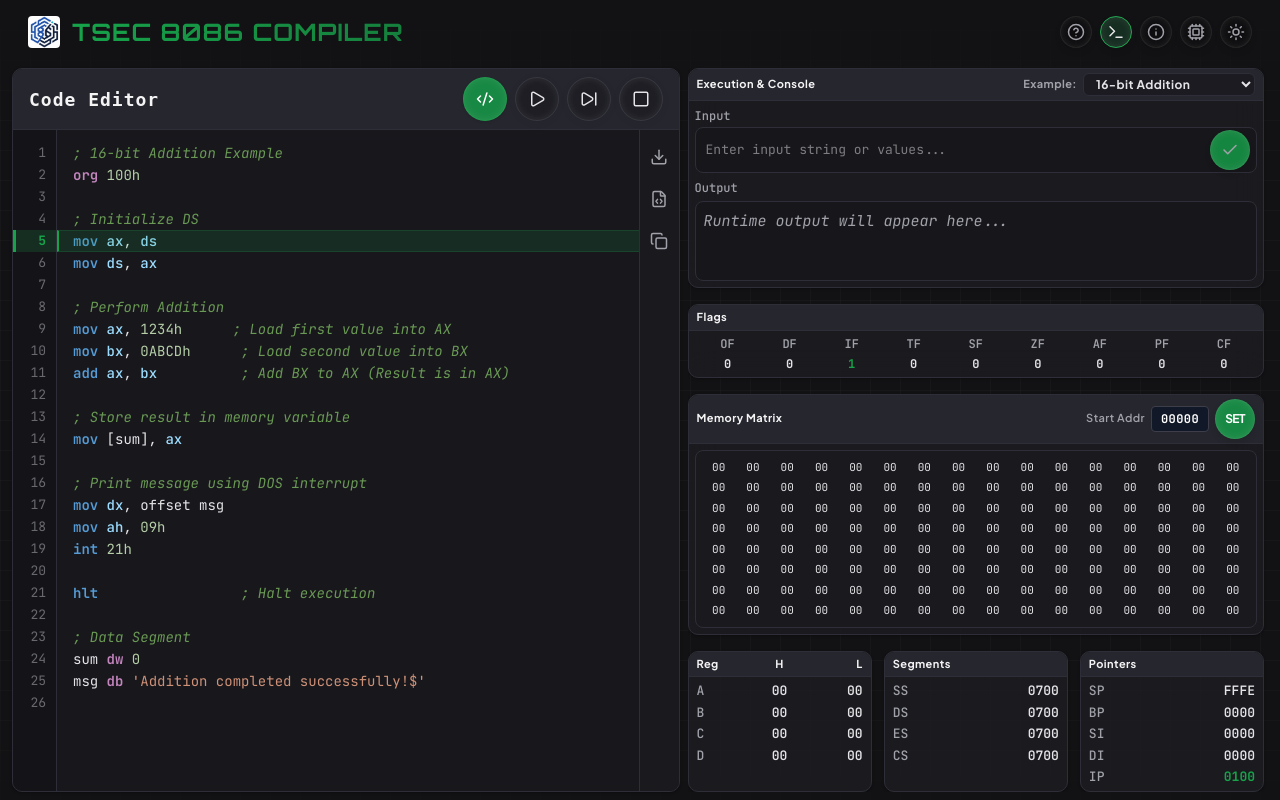
it: Milestone 5: Inter-Module Contract Testing › 5.1 & 5.2 Error Propagation & UI Sync › shows compilation errors on invalid code
Replace the text in the text box with class "yj-code-textarea" with "JMP UNDEFINED_LABEL" at {"x": 348, "y": 460}, box [57, 130, 638, 790]
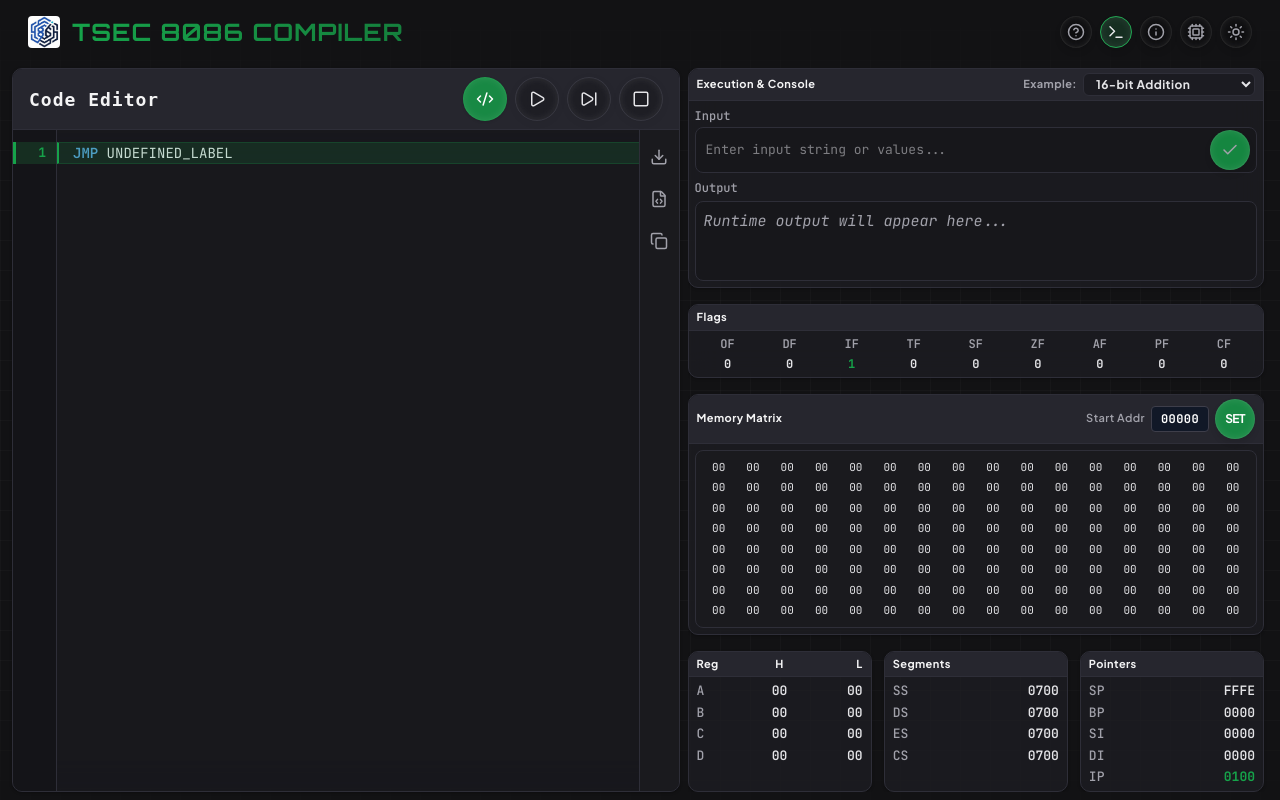
Click the button titled "Compile Code" at {"x": 484, "y": 99}, box [462, 77, 506, 121]
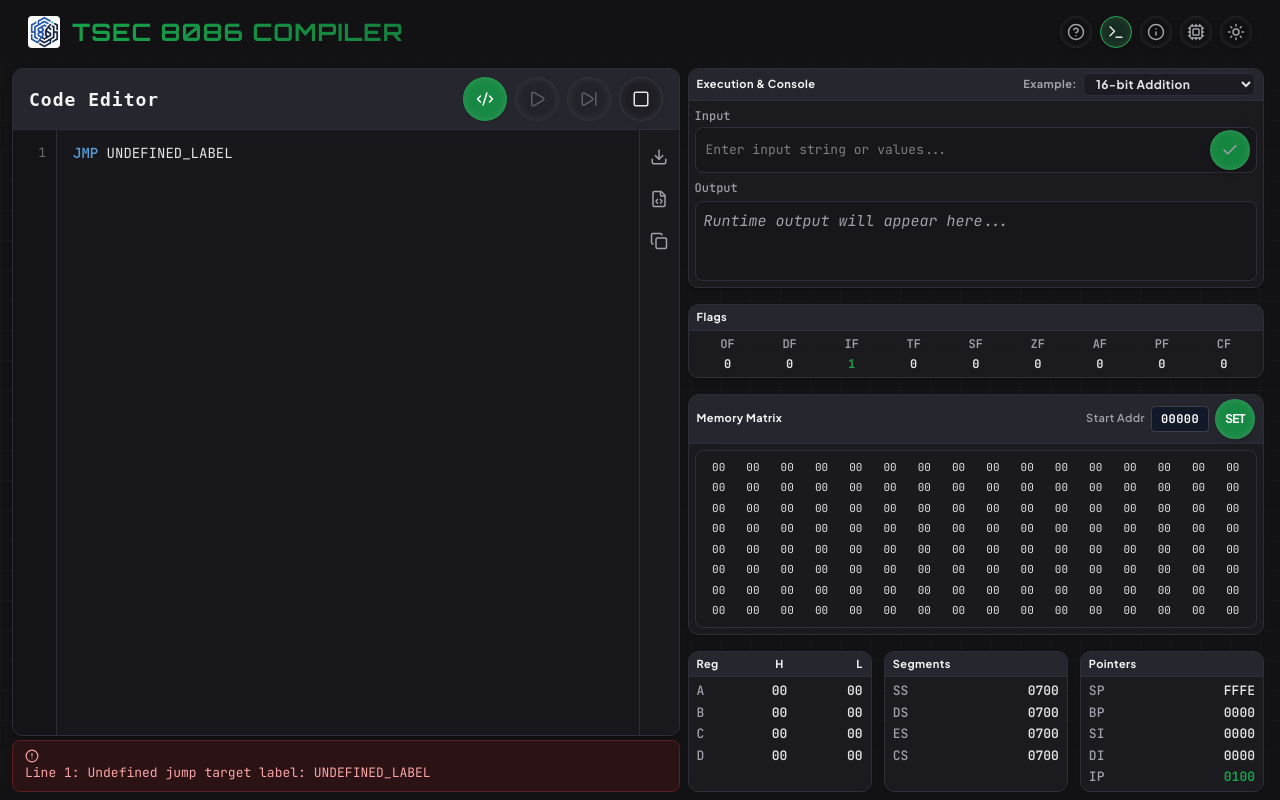
Expected: the element with class "yj-error-box" is shown, [12, 740, 680, 792]
Expected: the element with class "yj-error-box" shows "Undefined jump target label", [87, 764, 431, 781]
